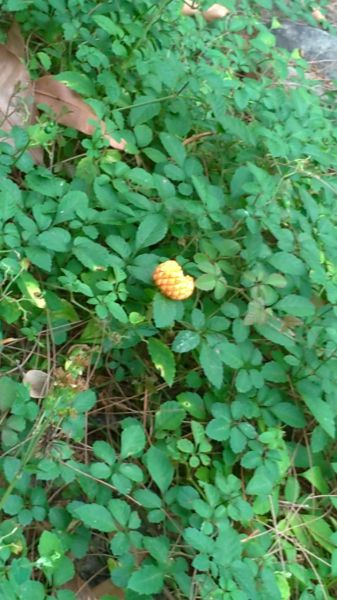eggs: (154, 262, 198, 304)
